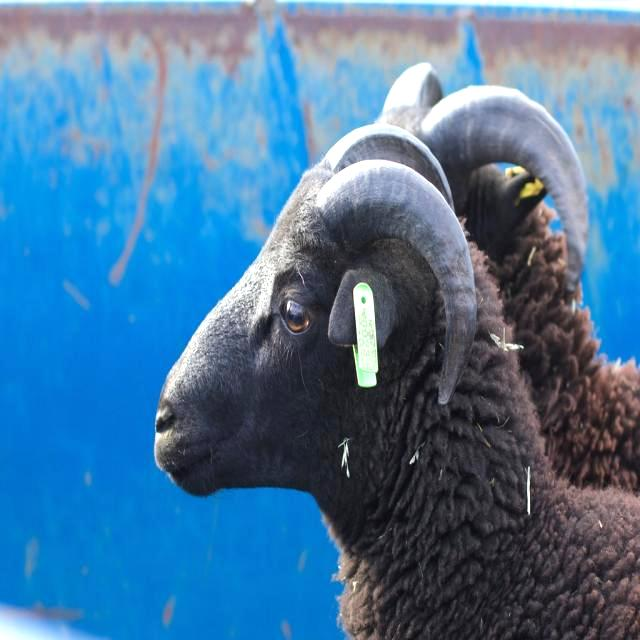sheep: (375, 64, 639, 492)
